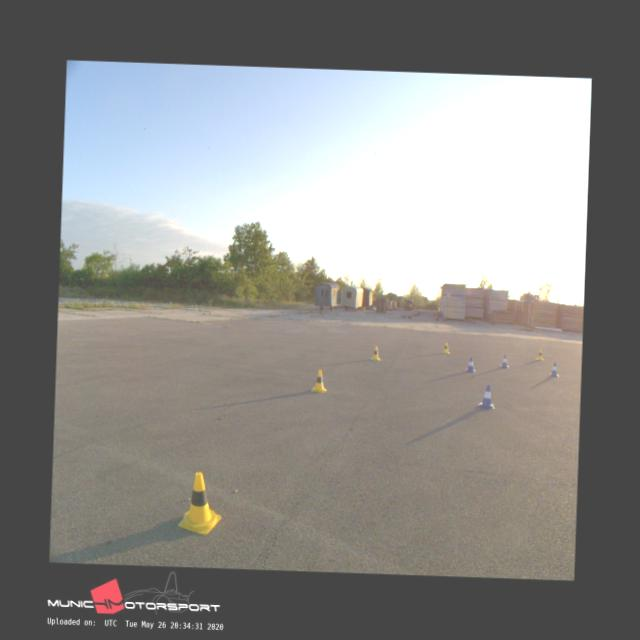blue_cone: (478, 383, 494, 408), (464, 356, 476, 372), (549, 361, 559, 376), (500, 353, 508, 368)
yellow_cone: (178, 471, 222, 534), (310, 368, 326, 392), (370, 346, 380, 360), (536, 348, 544, 359), (442, 341, 449, 353)
